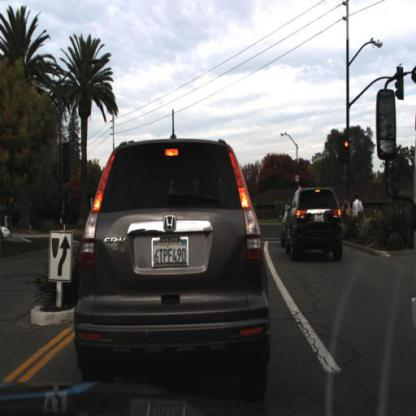car: (76, 136, 270, 391), (285, 187, 345, 259), (1, 220, 13, 244), (343, 198, 353, 223)
pedestrian: (353, 194, 362, 224)
trafficLight-Red: (344, 141, 350, 162)
